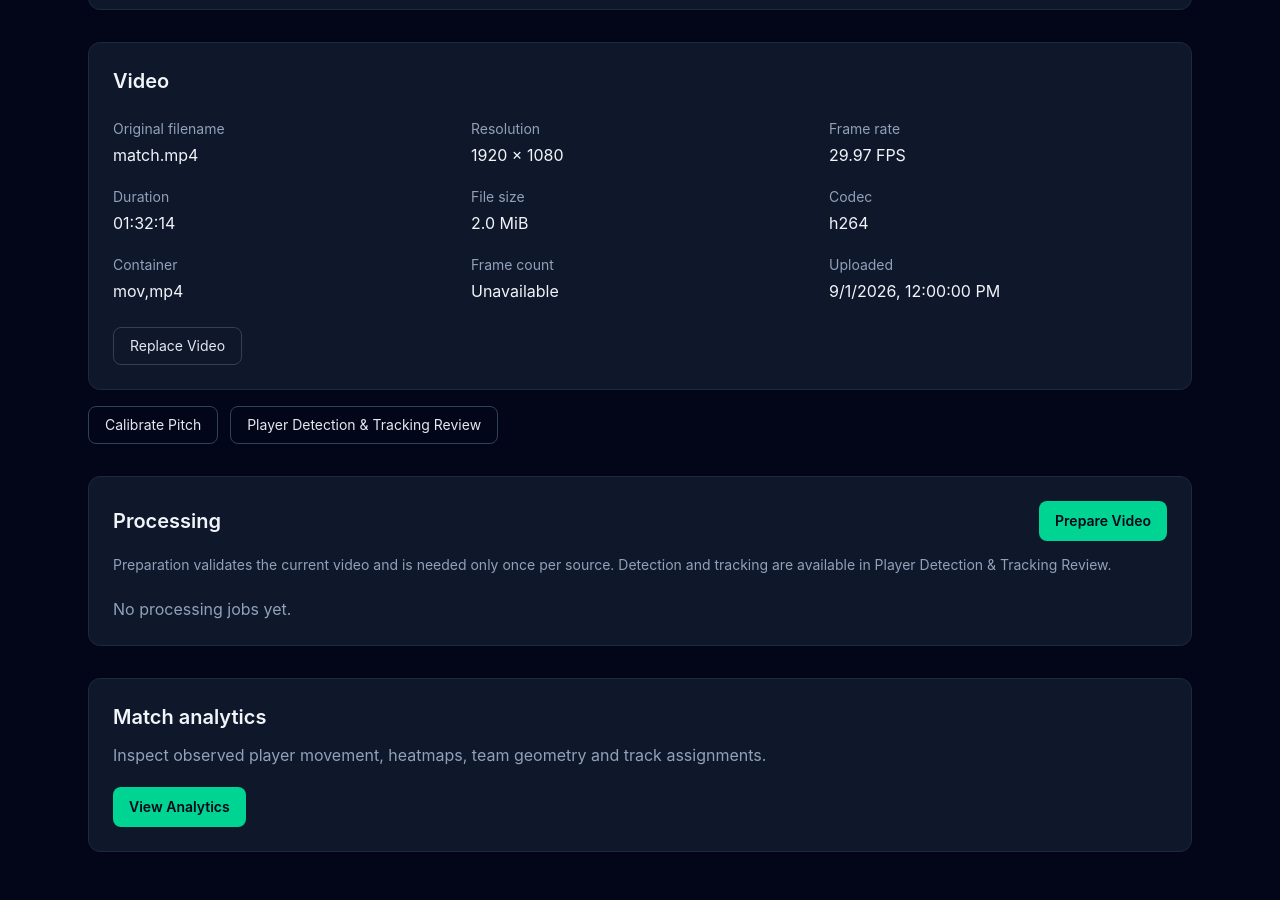
Test: processing jobs › refreshes persisted failures after queue unavailability and preserves the session
(page scrolled)
Expected: the text "No processing jobs yet." is shown, [113,599,291,619]
Click the button "Prepare Video": (1103, 521) [1039,501,1167,541]
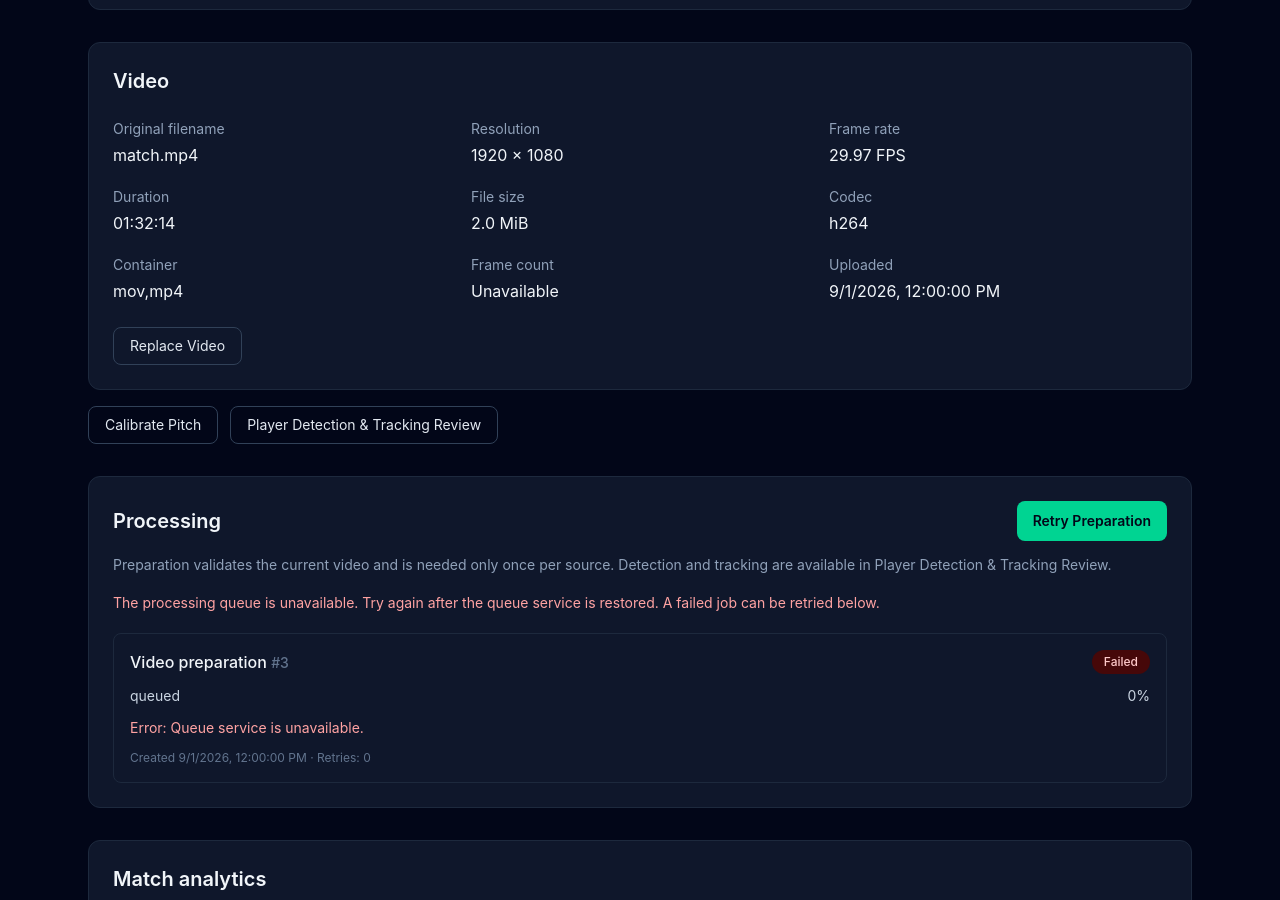
Expected: the button "Retry Preparation" is enabled, [1017,501,1167,541]
Expected: the message shows "processing queue is unavailable", [113,594,880,611]
Expected: the text "Error: Queue service is unavailable." is shown, [130,719,364,736]
